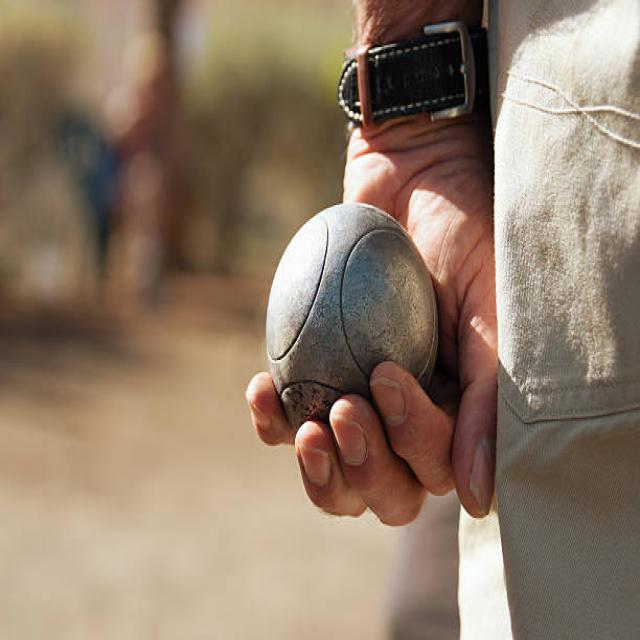petanque: (263, 199, 442, 452)
